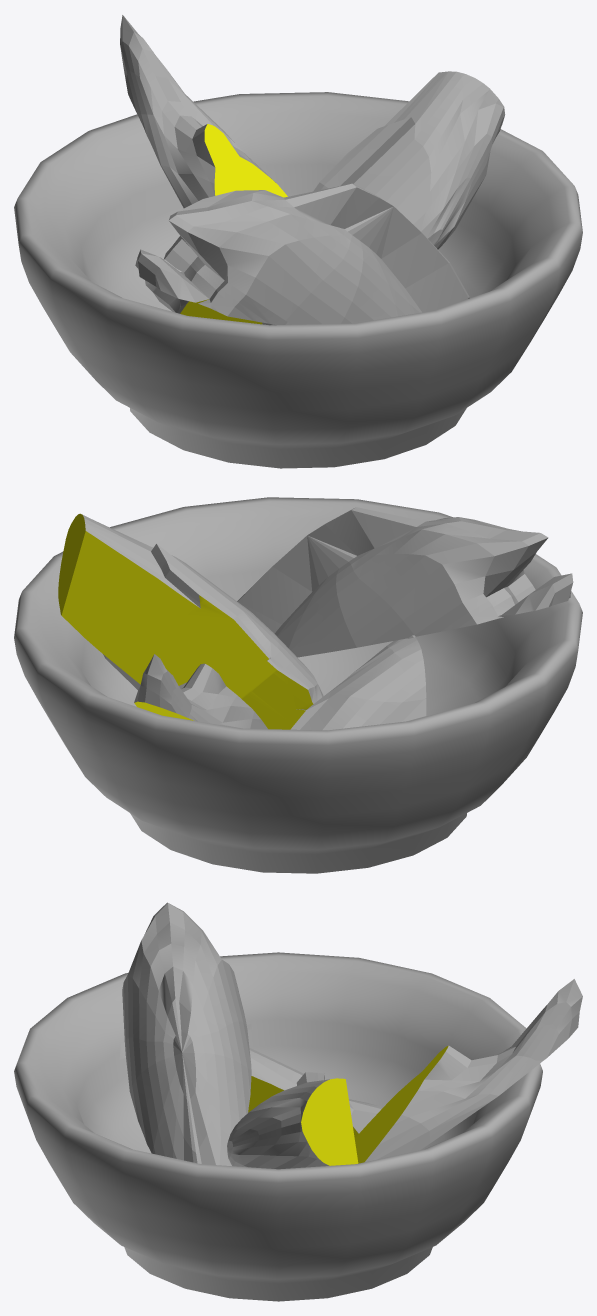
Rendered from CutFishInBowl.fbx.
The picture shows the model from 3 angles, top to bottom: view 1: azimuth 30°, elevation 25°; view 2: azimuth 150°, elevation 25°; view 3: azimuth 270°, elevation 25°; orthographic projection. The views are drawn at different scales.
Parts seen in each view (by area): view 1: cuenco, shard12, shard15, shard14, shard13; view 2: cuenco, shard12, shard15, shard13, shard14; view 3: cuenco, shard12, shard14, shard15, shard13.
Boxes of the visible parts, box(x1,y1,x2,y2) form: cuenco: box(14, 92, 582, 468); shard12: box(135, 183, 469, 324); shard15: box(262, 71, 505, 325); shard14: box(120, 15, 287, 208); shard13: box(145, 272, 262, 324); cuenco: box(14, 497, 582, 873); shard12: box(237, 507, 573, 657); shard15: box(58, 513, 323, 729); shard13: box(290, 637, 426, 730); shard14: box(134, 654, 267, 729); cuenco: box(14, 952, 542, 1301); shard12: box(119, 902, 252, 1165); shard14: box(354, 979, 582, 1163); shard15: box(227, 1072, 358, 1169); shard13: box(248, 1047, 382, 1137).
Bounding box in the file's own units: 44.38 × 23.25 × 47.72.
